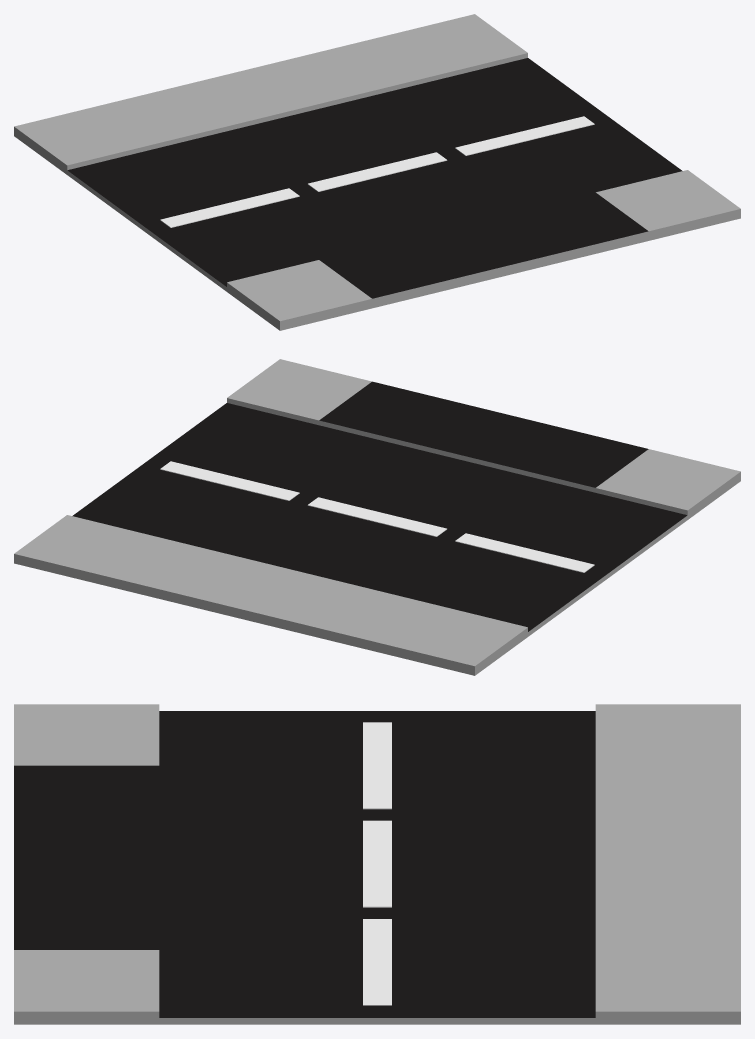
The model's file is Env_Road_Side_03.fbx.
3 views of the same model, one above another, from view 1: azimuth 30°, elevation 25°; view 2: azimuth 150°, elevation 25°; view 3: azimuth 270°, elevation 25° (orthographic). The views are drawn at different scales.
Parts seen in each view (by area): view 1: Env_Road_Side_03; view 2: Env_Road_Side_03; view 3: Env_Road_Side_03.
Boxes of the visible parts, left/top/right/bottom form: Env_Road_Side_03: left=14, top=14, right=740, bottom=330; Env_Road_Side_03: left=14, top=359, right=740, bottom=675; Env_Road_Side_03: left=14, top=704, right=740, bottom=1024.
Bounding box in the file's own units: 1000 × 20 × 1000.
